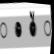correct: (12, 18, 25, 41)
not correct: (23, 9, 41, 43)
